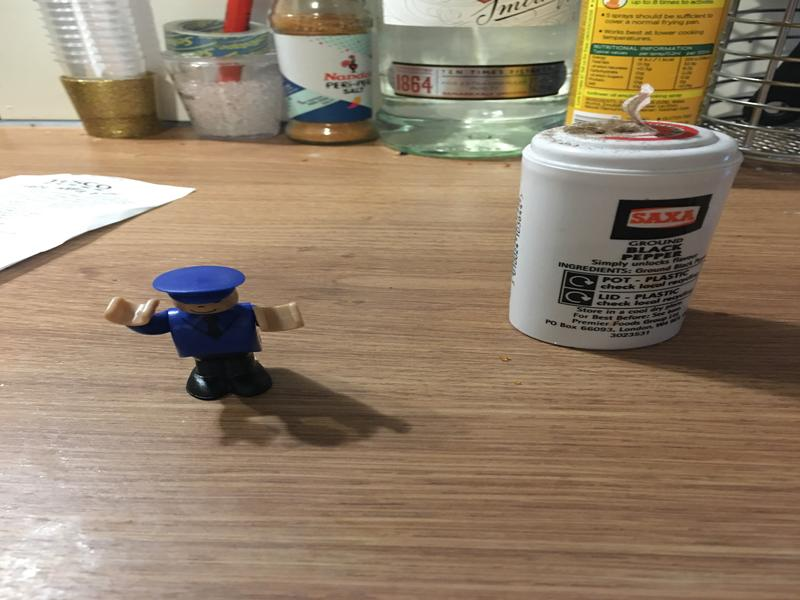person: (100, 264, 309, 401)
